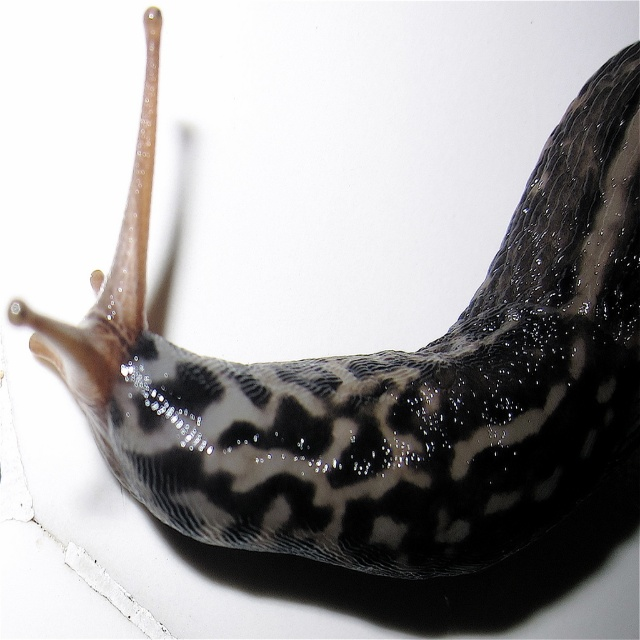Snail: (8, 7, 640, 580)
